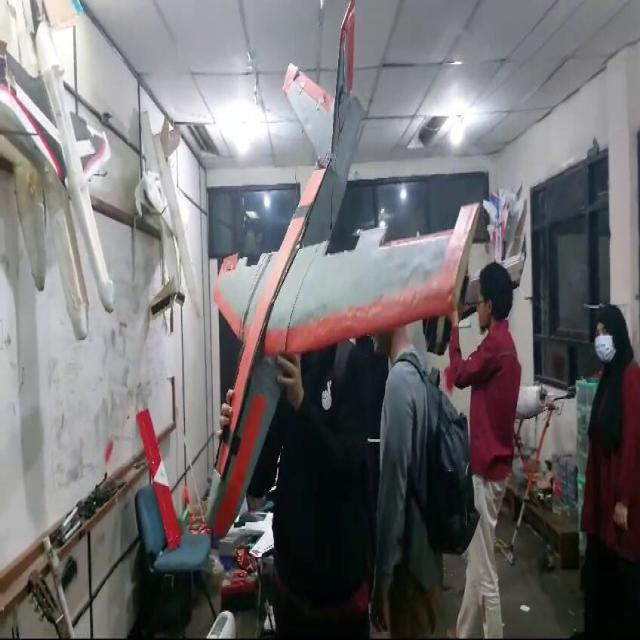plane: (164, 3, 488, 544)
